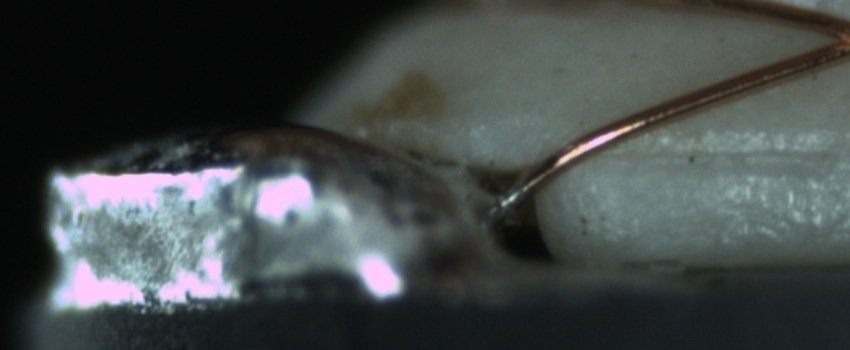CL: (811, 14, 849, 60)
DL: (610, 121, 844, 189)
